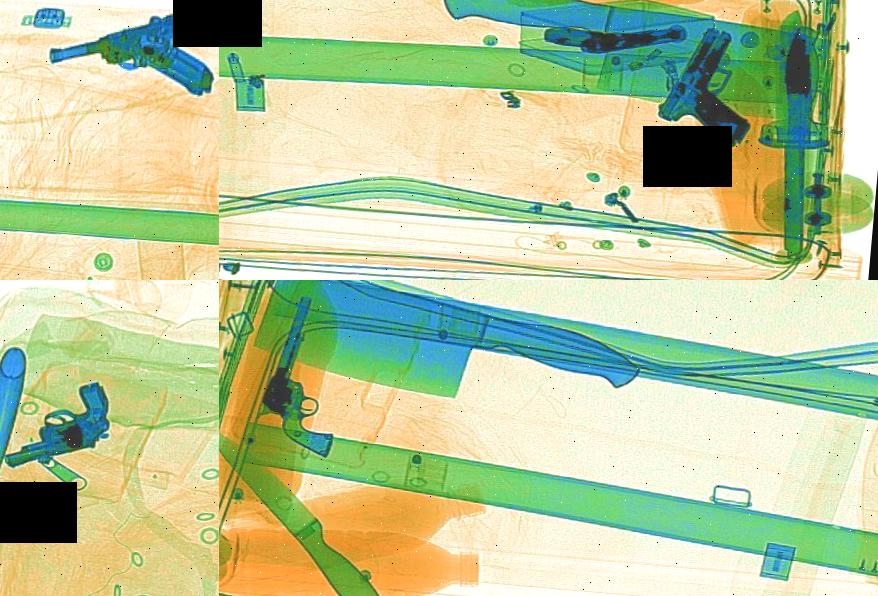Gun: (20, 0, 219, 127), (239, 288, 380, 455), (637, 18, 799, 155), (0, 367, 139, 476), (537, 0, 695, 70)
Knife: (238, 280, 656, 439), (425, 0, 833, 120), (219, 411, 433, 596), (740, 9, 854, 266), (0, 339, 29, 596)
